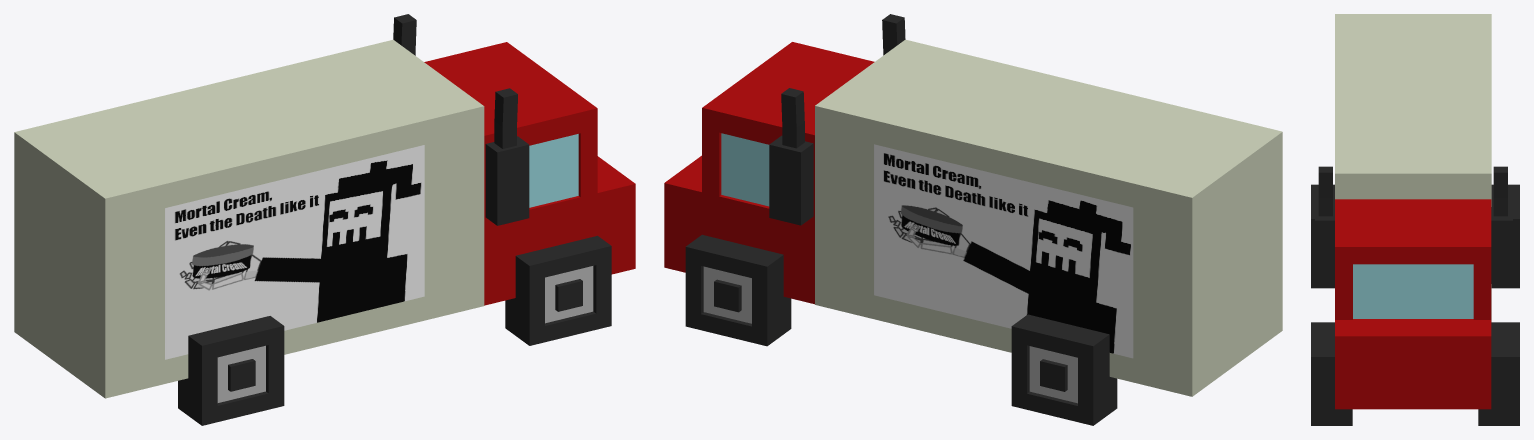
Rendered from 3D.CamionRosso.fbx.
The picture shows the model from 3 angles, left to right: view 1: azimuth 30°, elevation 25°; view 2: azimuth 150°, elevation 25°; view 3: azimuth 270°, elevation 25°; orthographic projection. The views are drawn at different scales.
Visible parts, largest first — view 1: camion, Pubblicità1, testa, Ruote, Dettagli, Finestrini, Cerchioni; view 2: camion, pubblicità2, testa, Ruote, Dettagli, Cerchioni, Finestrini; view 3: camion, testa, Ruote, Finestrini, Dettagli.
Boxes of the visible parts, x1,y1,x2,y2 form: camion: (14, 39, 484, 398); Pubblicità1: (165, 145, 424, 359); testa: (424, 42, 635, 305); Ruote: (178, 235, 611, 425); Dettagli: (393, 14, 529, 225); Finestrini: (529, 134, 578, 207); Cerchioni: (217, 266, 593, 402); camion: (815, 39, 1282, 396); pubblicità2: (874, 144, 1133, 358); testa: (664, 42, 874, 304); Ruote: (685, 234, 1117, 425); Dettagli: (769, 14, 905, 225); Cerchioni: (703, 266, 1077, 403); Finestrini: (721, 133, 769, 206); camion: (1335, 14, 1491, 321); testa: (1335, 199, 1491, 409); Ruote: (1311, 184, 1519, 425); Finestrini: (1353, 264, 1473, 318); Dettagli: (1315, 166, 1512, 283).
Size of the model in its own units: 205 by 92.36 by 81.05.
